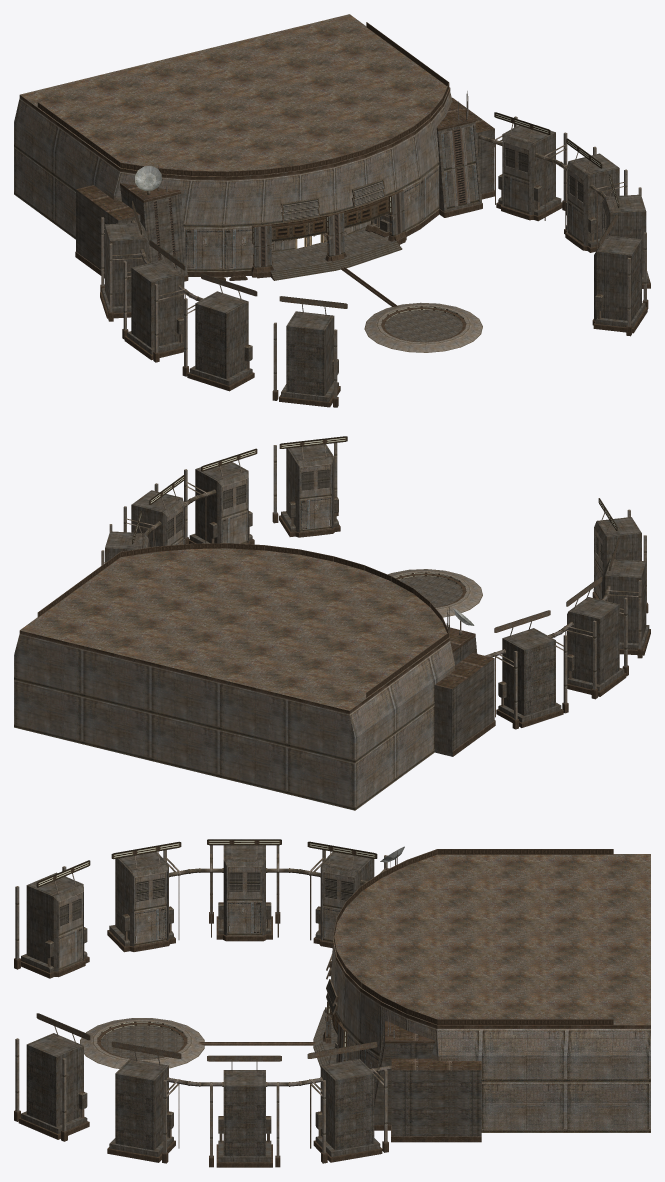
The model's file is thm_lok_nyms_stronghold_r0_mesh_l0.fbx.
3 views of the same model, one above another, from view 1: azimuth 30°, elevation 25°; view 2: azimuth 150°, elevation 25°; view 3: azimuth 270°, elevation 25° (orthographic). The views are drawn at different scales.
Parts seen in each view (by area): view 1: mesh_node; view 2: mesh_node; view 3: mesh_node.
Boxes of the visible parts, bbox=[...] form: mesh_node: bbox=[14, 14, 650, 407]; mesh_node: bbox=[14, 436, 650, 810]; mesh_node: bbox=[14, 839, 650, 1167].
Size of the model in its own units: 110 by 24.59 by 120.
